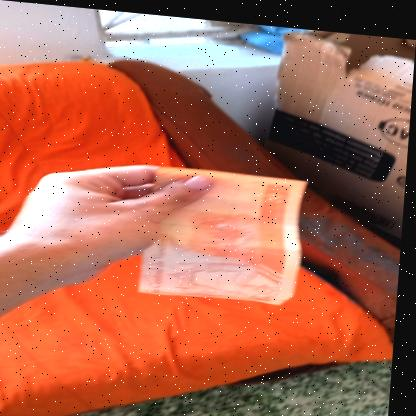twenty-back-vef: (142, 161, 310, 302)
